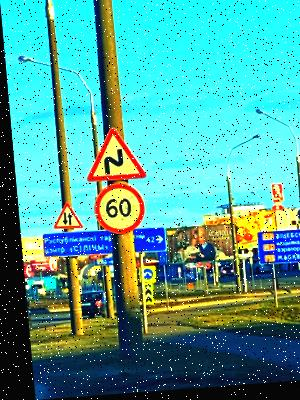Speed Limit -60-: (86, 181, 143, 237)
